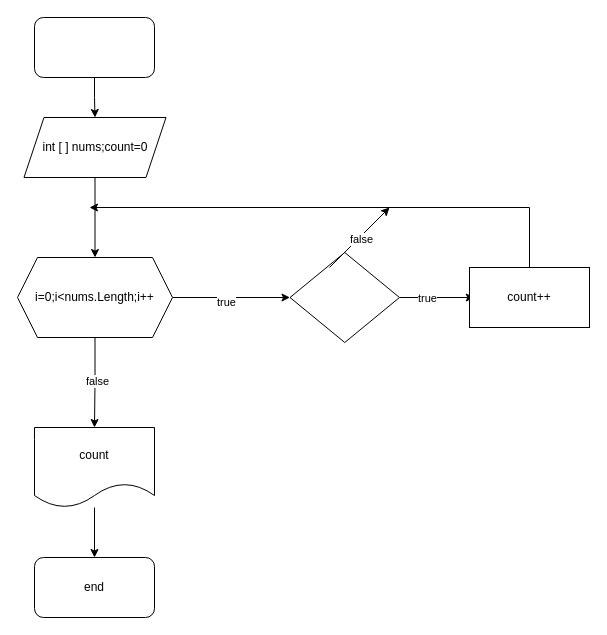
The diagram is 607 pixels wide and 635 high, and some of its shapes have lost their labels. Here are the shapes that lost their labels. From the top down, the box of each, then its label:
(34, 16, 154, 78): start
(289, 252, 400, 342): nums[i]%2==0
